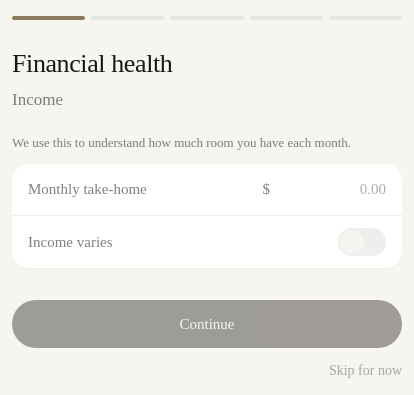
Test case: Financial Health onboarding stepper › blocks advancing past Income until an income is entered
Check: the text "Monthly take-home" is shown, box [28,178,148,201]
Check: the button "Continue" is disabled, box [12,300,402,348]
Type "3000" into the field with placeholder "0.00".
click(330, 190); type("3000")  # box [274,178,386,201]
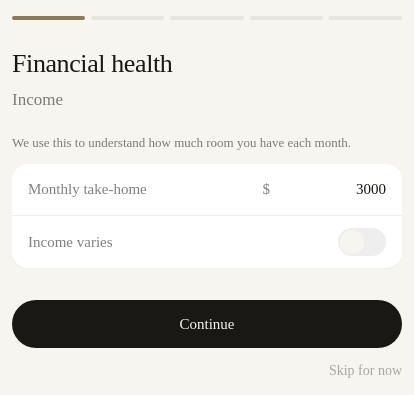
Check: the button "Continue" is enabled, box [12,300,402,348]
